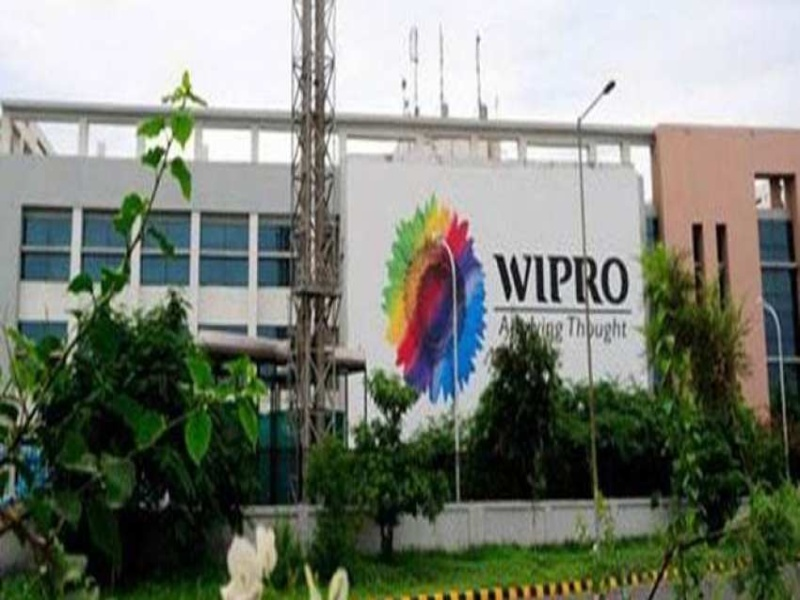wipro: (380, 191, 487, 399)
